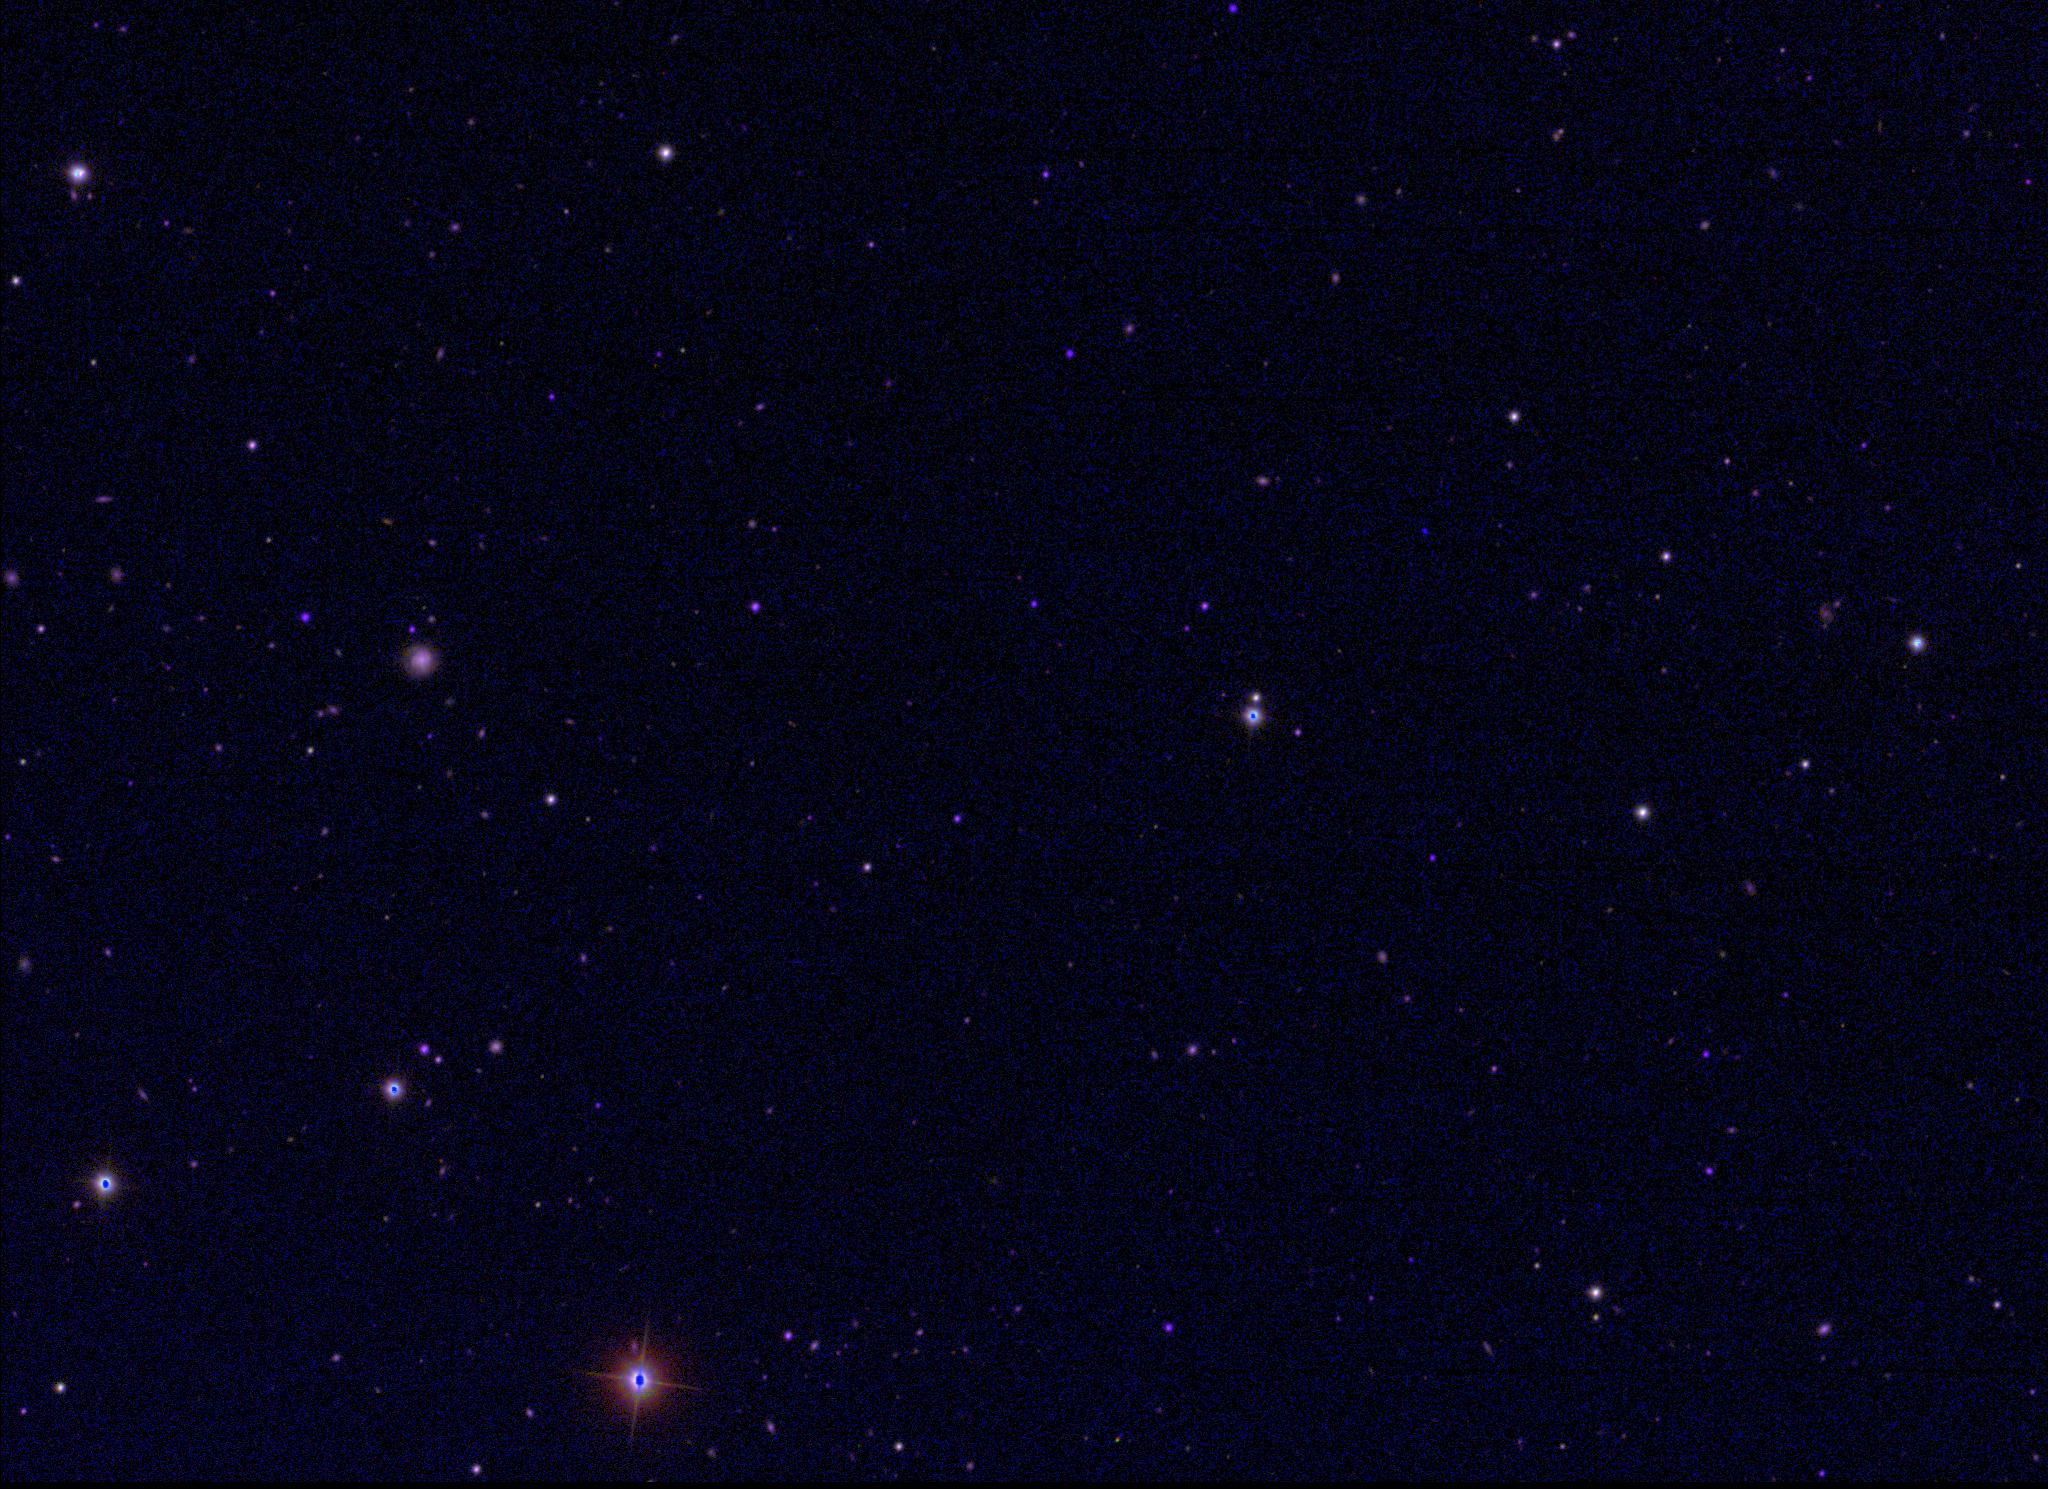L: (1418, 523, 1433, 538)
